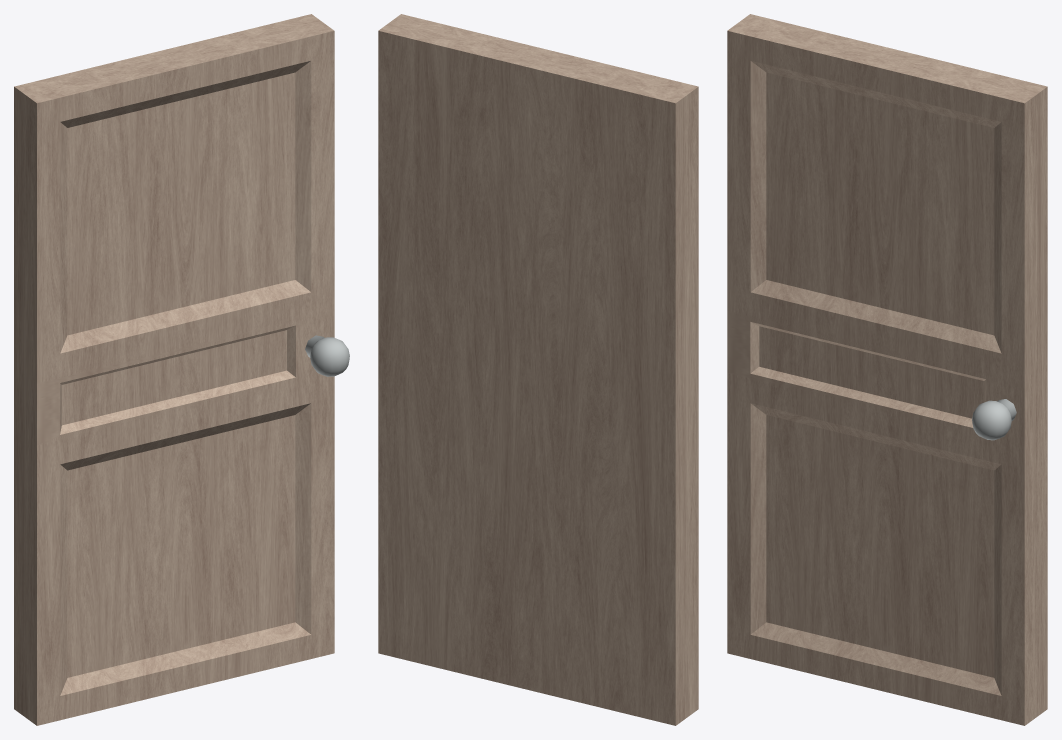
File: Door.fbx
3 renders of one model, left to right at view 1: azimuth 30°, elevation 25°; view 2: azimuth 150°, elevation 25°; view 3: azimuth 330°, elevation 25°, orthographic.
Parts seen in each view (by area): view 1: Puerta; view 2: Puerta; view 3: Puerta.
Boxes of the visible parts, box(x1,y1,x2,y2) form: Puerta: box(14, 14, 349, 725); Puerta: box(378, 14, 698, 725); Puerta: box(727, 14, 1047, 725).
Bounding box in the file's own units: 300 × 600 × 82.07.
